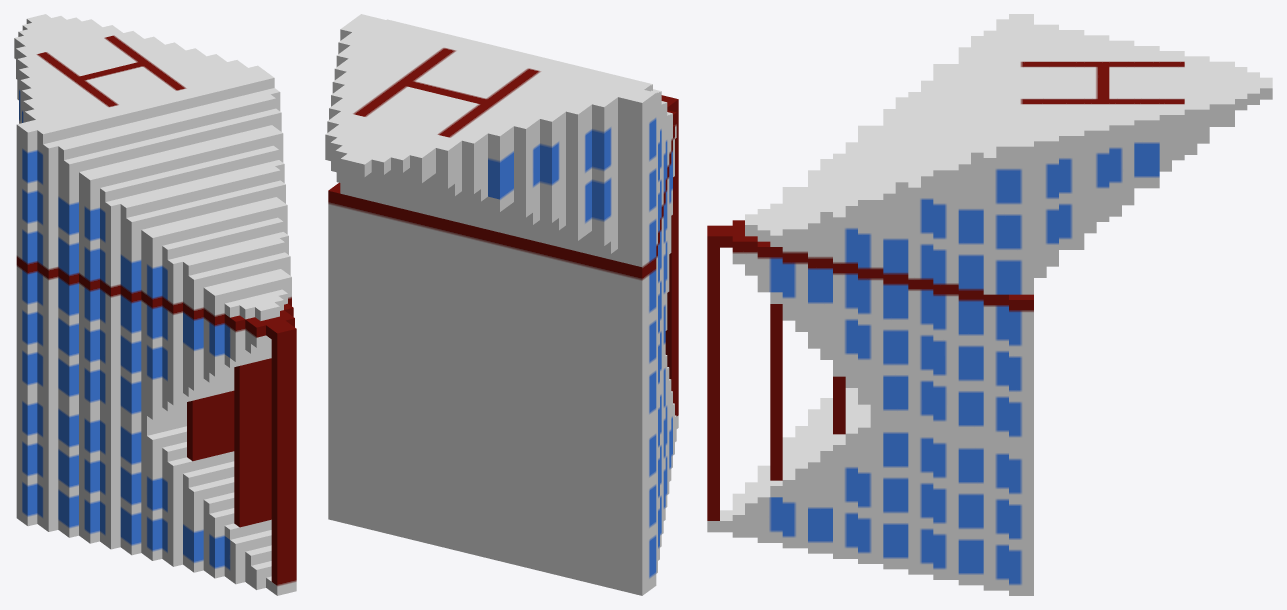
The model's file is fifteenthModelRoof.fbx.
3 views of the same model, side by side, from view 1: azimuth 30°, elevation 25°; view 2: azimuth 150°, elevation 25°; view 3: azimuth 270°, elevation 25° (orthographic). The views are drawn at different scales.
Parts seen in each view (by area): view 1: Triangle; view 2: Triangle; view 3: Triangle.
Part boxes in pixels (box(x1,y1,x2,y2)): Triangle: box(14, 14, 296, 595); Triangle: box(325, 14, 678, 595); Triangle: box(707, 14, 1272, 595).
Bounding box in the file's own units: 26 × 39 × 45.
Materials: 1 (1 with a texture image).
